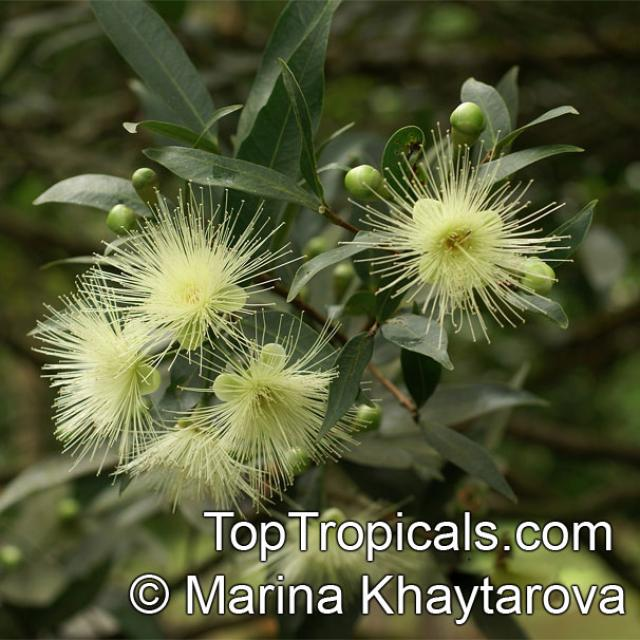Medicinal-Rose Apple: (17, 0, 640, 514)
